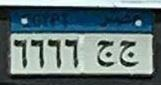6: (13, 37, 29, 69), (64, 38, 81, 68), (29, 38, 46, 68), (47, 38, 63, 68)
jeem: (95, 37, 116, 68), (119, 37, 139, 69)
